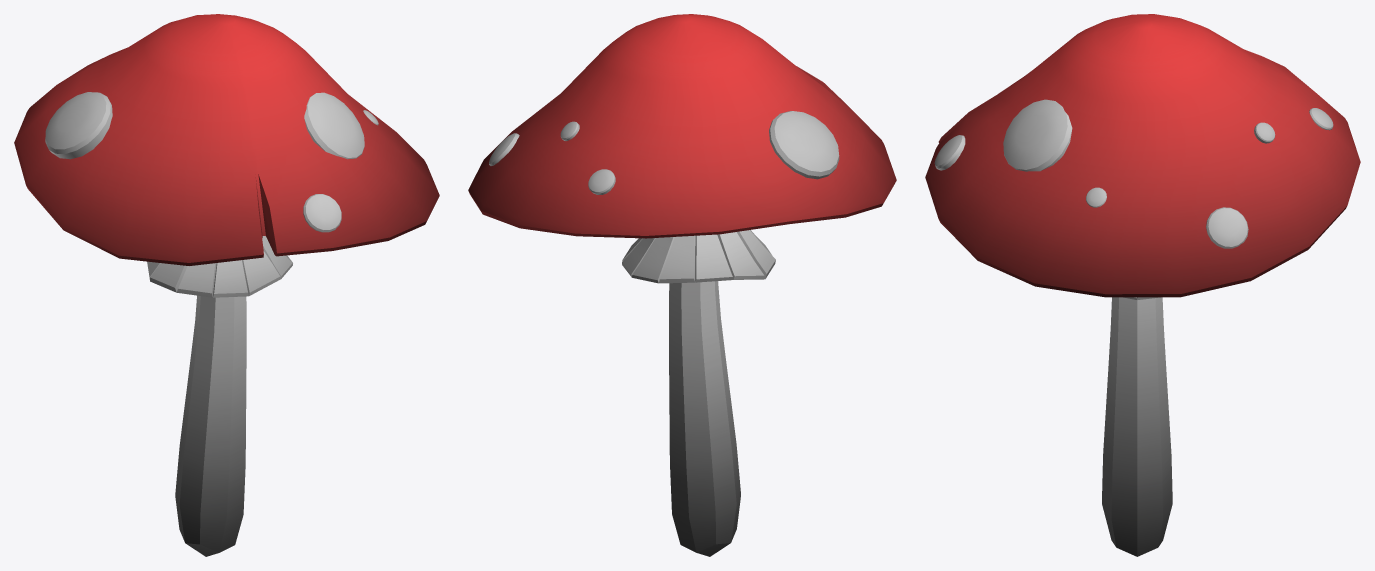
The model's file is mushroom10.fbx.
3 views of the same model, side by side, from view 1: azimuth 30°, elevation 25°; view 2: azimuth 150°, elevation 25°; view 3: azimuth 270°, elevation 25° (orthographic). The views are drawn at different scales.
Visible parts, largest first — view 1: mushroom4; view 2: mushroom4; view 3: mushroom4.
Boxes of the visible parts, left/top/right/bottom form: mushroom4: left=14, top=14, right=439, bottom=556; mushroom4: left=468, top=14, right=896, bottom=556; mushroom4: left=925, top=14, right=1360, bottom=556.
Size of the model in its own units: 45.89 by 63.82 by 46.58.
